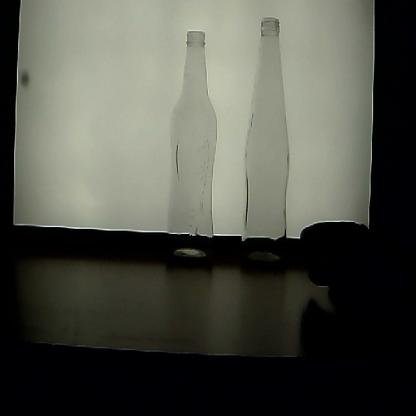Can: (162, 26, 218, 275), (244, 17, 296, 285)
